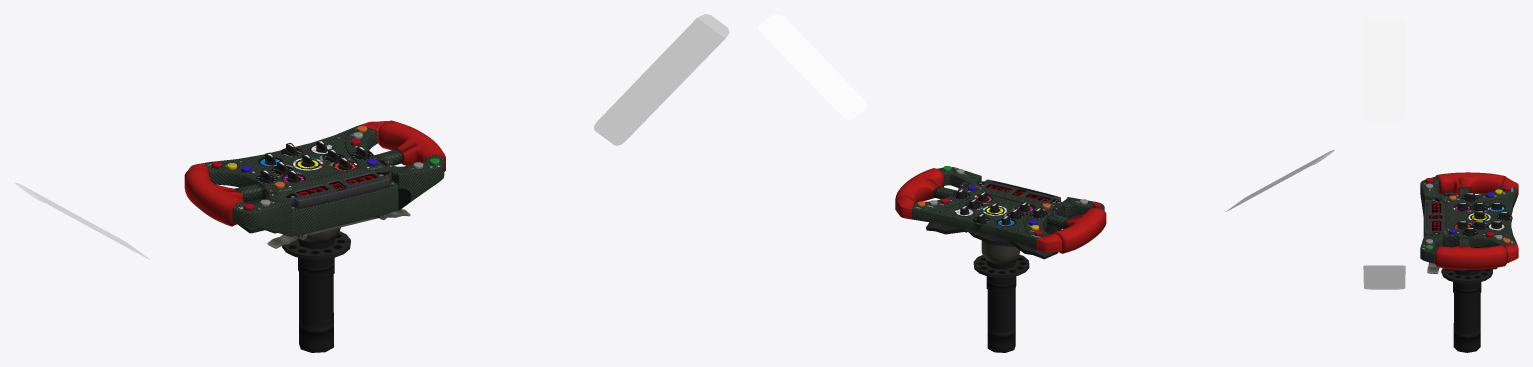
Rendered from Wheel.obj.
3 views of the same model, side by side, from view 1: azimuth 30°, elevation 25°; view 2: azimuth 150°, elevation 25°; view 3: azimuth 270°, elevation 25° (orthographic). The views are drawn at different scales.
Visible parts, largest first — view 1: object__11, object__0, object__9, object__1; view 2: object__11, object__0, object__9, object__1; view 3: object__11, object__1, object__0, object__9.
Part boxes in pixels (box(x1,y1,x2,y2)): object__11: box(184, 120, 445, 352); object__0: box(594, 14, 729, 145); object__9: box(284, 171, 396, 210); object__1: box(15, 182, 149, 259); object__11: box(895, 166, 1106, 352); object__0: box(758, 14, 867, 119); object__9: box(976, 179, 1061, 203); object__1: box(1226, 149, 1334, 211); object__11: box(1420, 172, 1518, 352); object__1: box(1363, 14, 1405, 121); object__0: box(1363, 265, 1405, 289); object__9: box(1424, 197, 1445, 235).
Size of what is drawn, in the model's own units: 0.8614 by 0.3319 by 0.2248.
6 materials, 5 textured.
